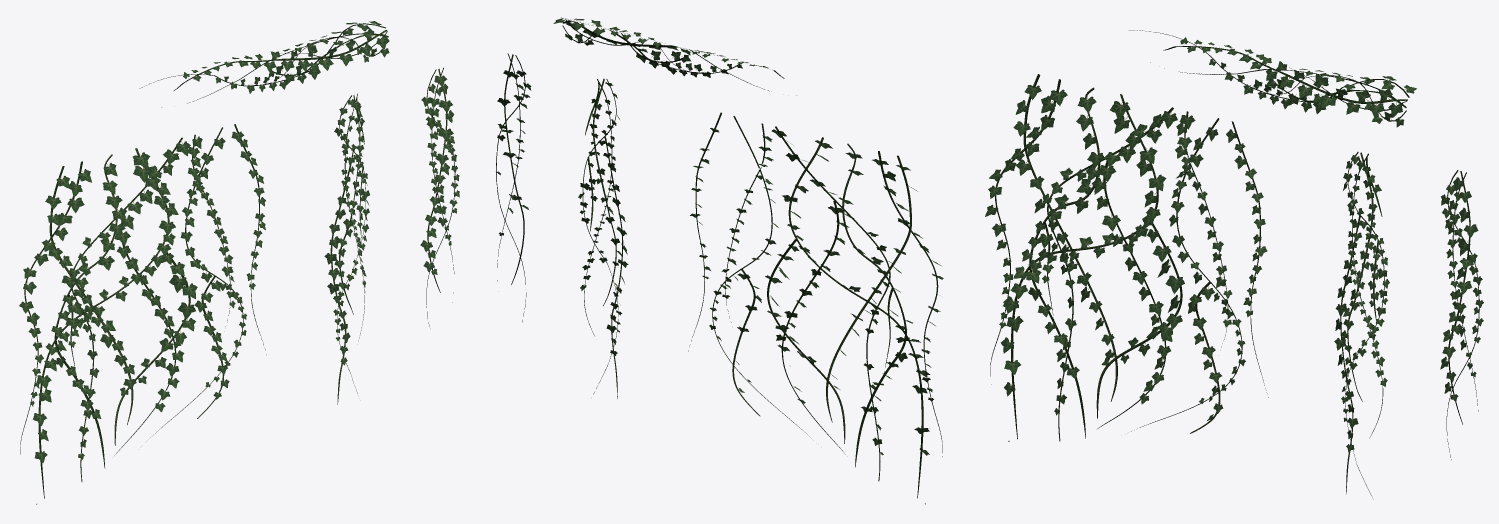
The model's file is ivy.fbx.
3 views of the same model, side by side, from view 1: azimuth 30°, elevation 25°; view 2: azimuth 150°, elevation 25°; view 3: azimuth 330°, elevation 25° (orthographic). The views are drawn at different scales.
Visible parts, largest first — view 1: ivy_flat_walls, ivy_posts, ivy_ledge, ivy_hanging; view 2: ivy_flat_walls, ivy_posts, ivy_ledge, ivy_hanging; view 3: ivy_flat_walls, ivy_posts, ivy_ledge, ivy_hanging.
Boxes of the visible parts, left/top/right/bottom form: ivy_flat_walls: left=19, top=124, right=266, bottom=504; ivy_posts: left=324, top=93, right=369, bottom=404; ivy_ledge: left=139, top=21, right=389, bottom=107; ivy_hanging: left=420, top=67, right=459, bottom=326; ivy_flat_walls: left=688, top=112, right=943, bottom=504; ivy_posts: left=578, top=78, right=628, bottom=398; ivy_ledge: left=553, top=17, right=784, bottom=91; ivy_hanging: left=496, top=53, right=531, bottom=322; ivy_flat_walls: left=985, top=74, right=1268, bottom=441; ivy_posts: left=1334, top=152, right=1389, bottom=499; ivy_ledge: left=1129, top=30, right=1416, bottom=127; ivy_hanging: left=1440, top=170, right=1483, bottom=459.
Bounding box in the file's own units: 174 × 148 × 16.91.
